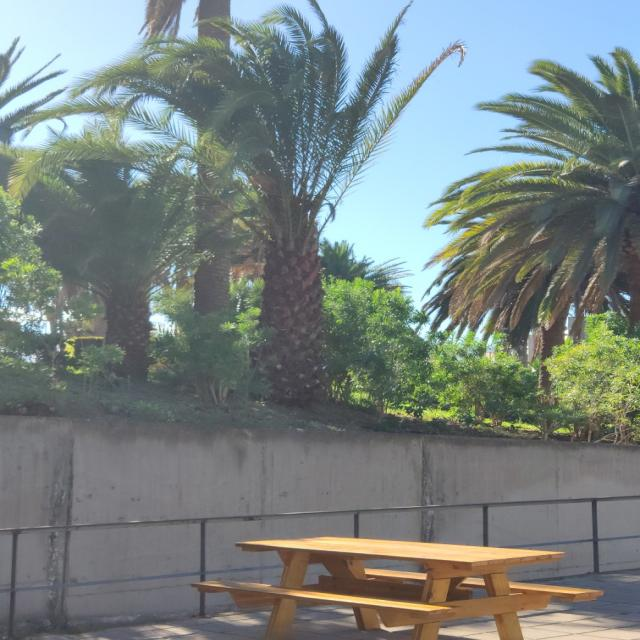Palm-Trees: (146, 48, 432, 404), (14, 150, 246, 380)
